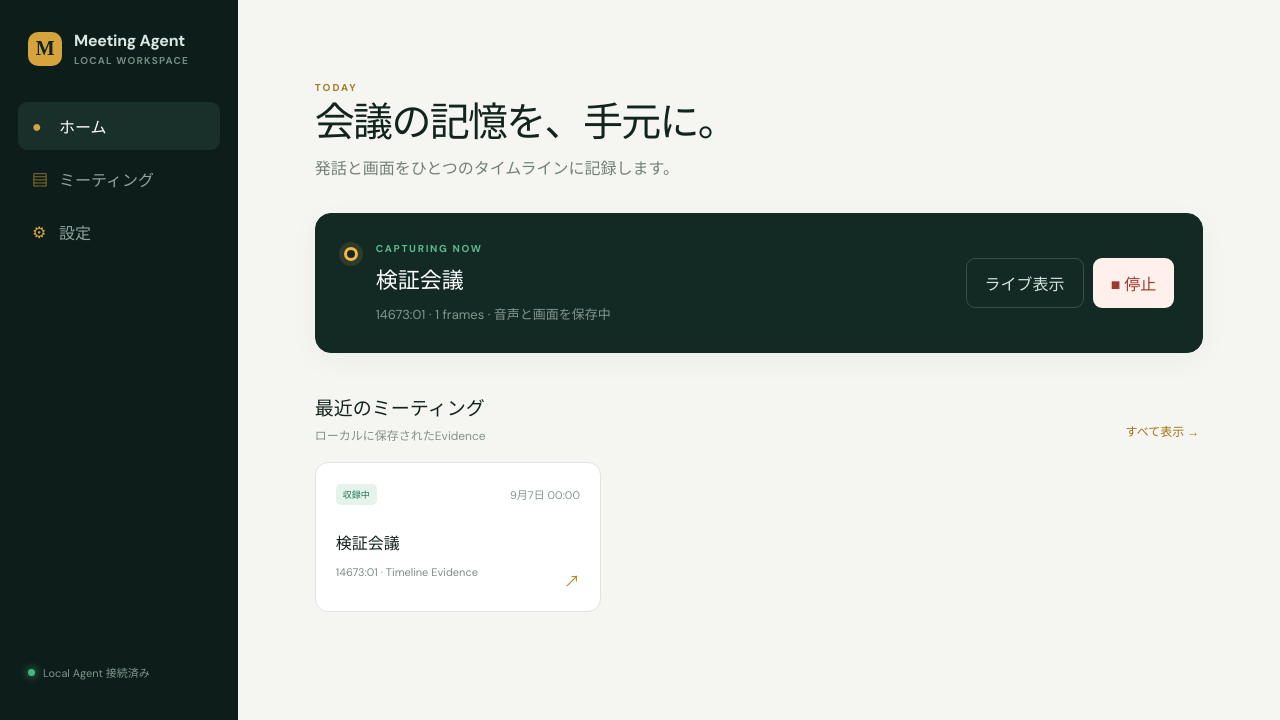
it: shares one timeline download and does not refetch it for capture metrics
The width and height of the screenshot is (1280, 720).
Step 1. Click the button "ライブ表示" → {"x": 1025, "y": 282}, box [966, 258, 1084, 308]
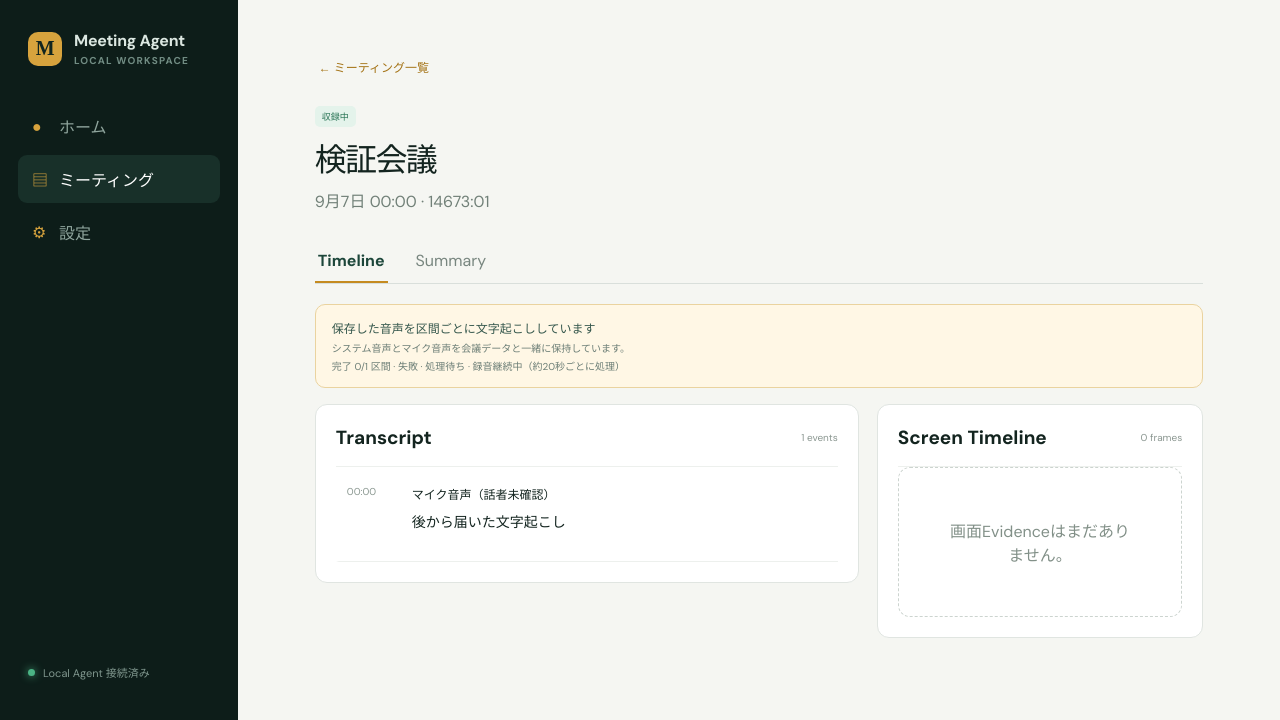
Now the text "後から届いた文字起こし" is shown, box [412, 513, 566, 531]
